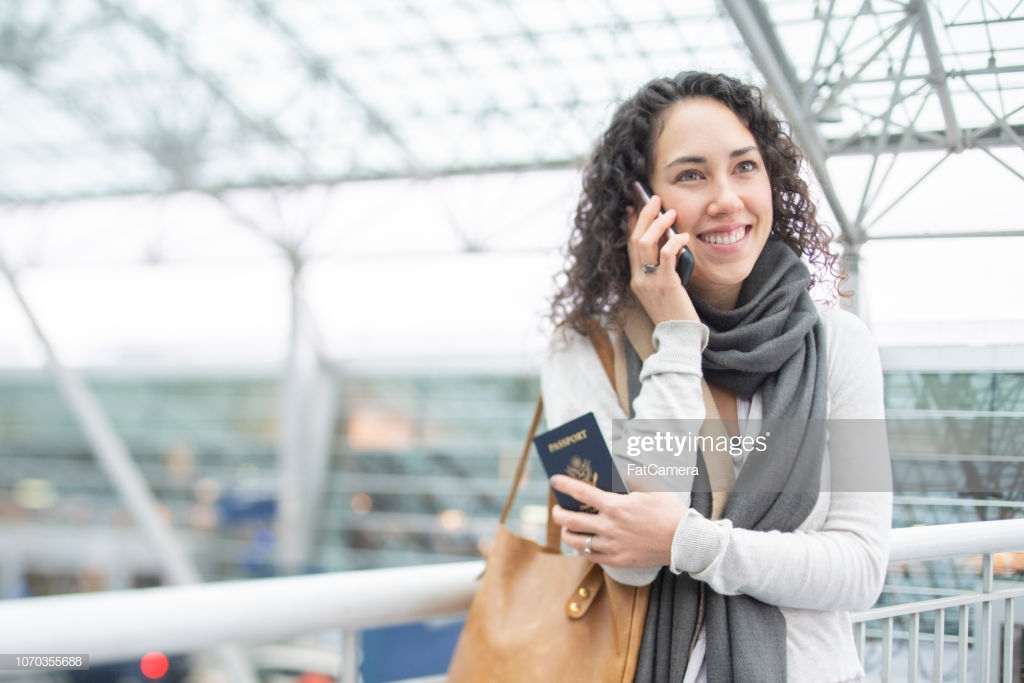phone: (621, 190, 696, 302)
talk: (602, 146, 780, 320)
